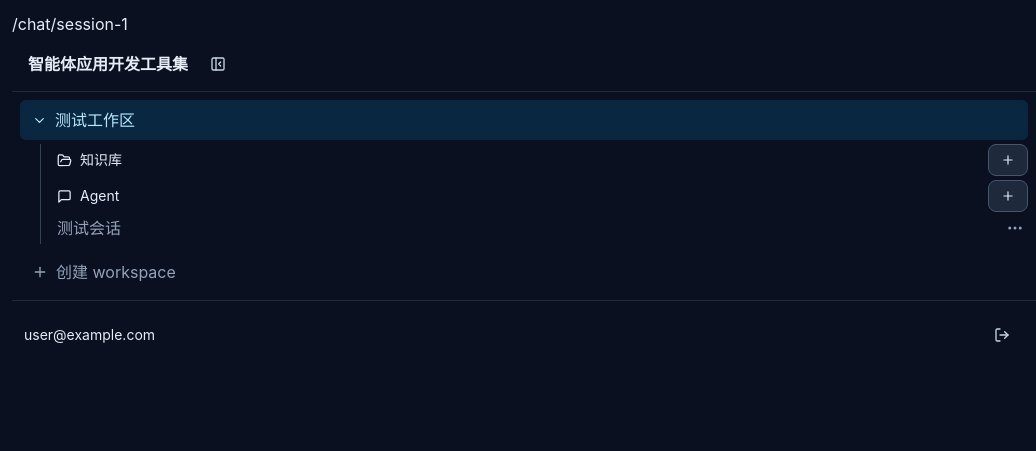
Test case: a failed session export shows an error without creating a download
Click the button named "会话操作：测试会话" at (1015, 228), box [1002, 215, 1028, 241]
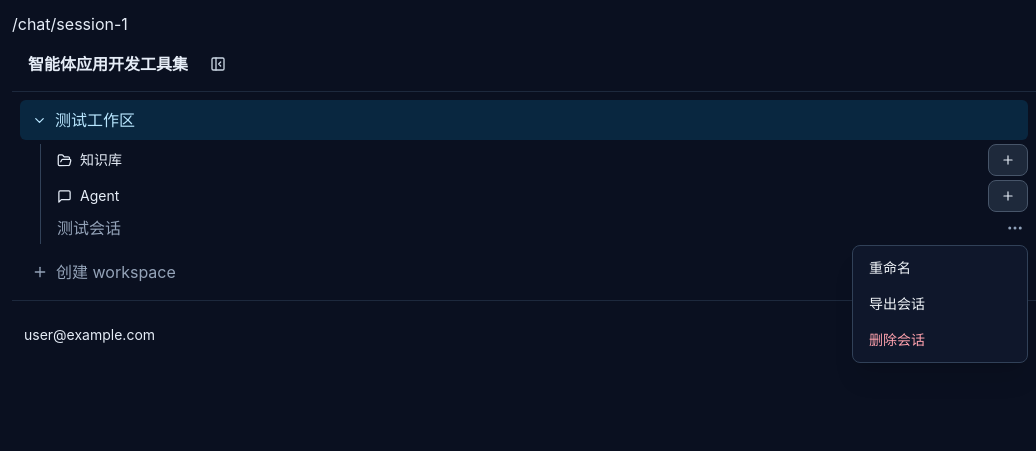
Click the menu item "导出会话" at (940, 304), box [857, 286, 1023, 322]
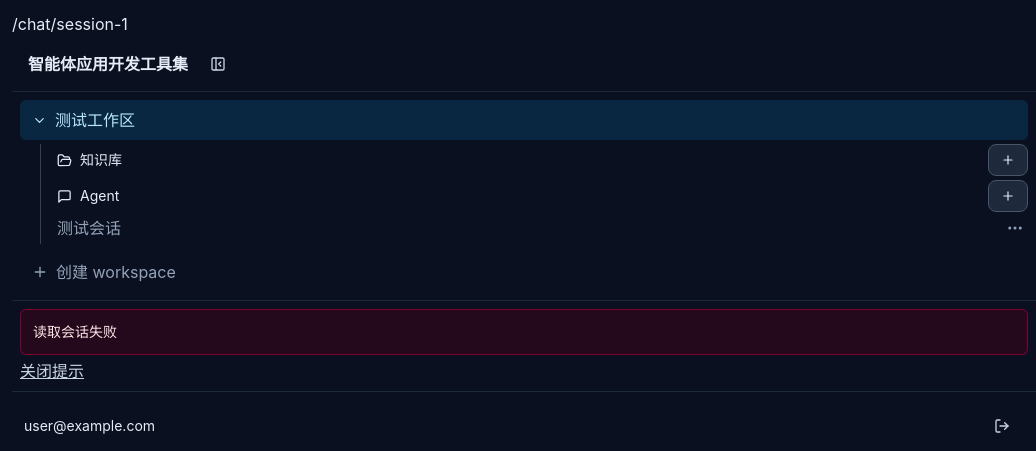
Expected: the text "读取会话失败" is shown, [33, 323, 117, 340]
